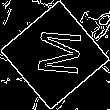M_W: (28, 30, 82, 80)
